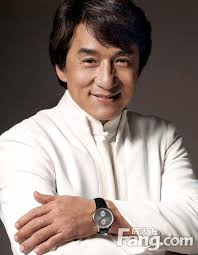eye: (79, 56, 101, 67), (113, 56, 134, 67)
mouth: (85, 91, 125, 103)
nose: (92, 75, 122, 90)
